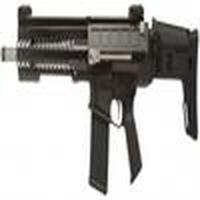gun: (4, 5, 199, 126)
